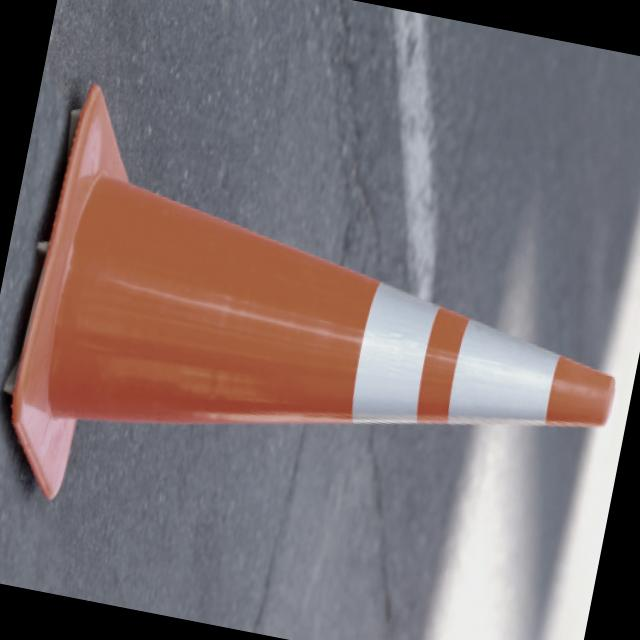cone: (0, 92, 640, 615)
